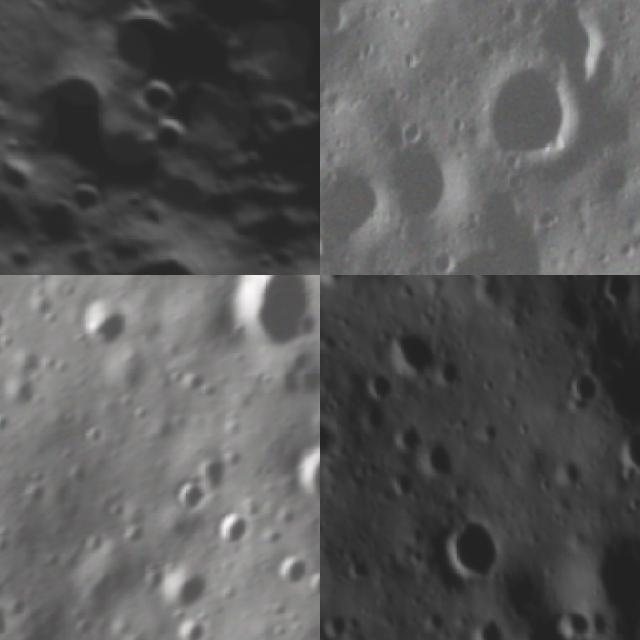crater: (92, 0, 320, 275), (484, 61, 587, 169), (79, 222, 257, 275), (223, 275, 320, 353), (320, 165, 394, 254), (386, 142, 465, 225), (526, 5, 610, 74), (145, 108, 206, 170), (447, 512, 498, 583), (136, 63, 195, 122), (77, 296, 135, 353), (257, 83, 312, 139), (157, 561, 211, 618), (270, 346, 320, 402), (68, 168, 119, 220), (0, 147, 45, 200), (449, 243, 518, 275), (387, 322, 432, 370), (291, 440, 320, 509), (561, 357, 597, 408), (274, 554, 315, 593), (196, 457, 238, 495), (216, 513, 256, 551), (168, 486, 212, 520), (420, 439, 459, 477), (10, 345, 47, 385), (4, 378, 42, 415), (396, 109, 429, 151), (531, 202, 568, 239), (617, 429, 640, 483), (595, 275, 629, 311), (388, 421, 422, 452), (469, 612, 506, 640), (24, 482, 53, 517), (339, 550, 368, 584), (359, 371, 394, 396), (439, 353, 460, 389), (85, 424, 106, 454), (177, 623, 211, 640), (320, 226, 334, 266), (0, 409, 14, 443), (307, 570, 320, 602), (0, 604, 10, 640), (0, 307, 11, 334)
